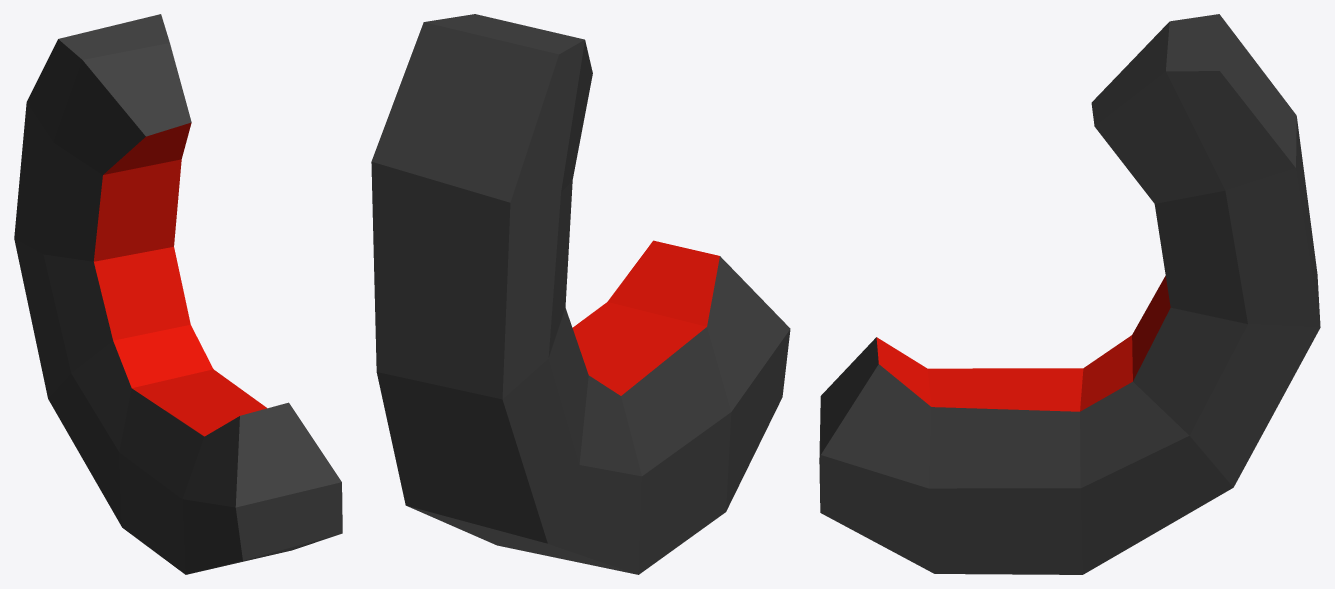
The model's file is coolrock3.fbx.
The picture shows the model from 3 angles, left to right: view 1: azimuth 30°, elevation 25°; view 2: azimuth 150°, elevation 25°; view 3: azimuth 270°, elevation 25°; orthographic projection. The views are drawn at different scales.
Visible parts, largest first — view 1: coolrock3; view 2: coolrock3; view 3: coolrock3.
Part boxes in pixels (box(x1,y1,x2,y2)): coolrock3: box(14, 14, 342, 574); coolrock3: box(371, 14, 790, 574); coolrock3: box(819, 14, 1320, 574).
Bounding box in the file's own units: 93.39 × 336 × 304.
